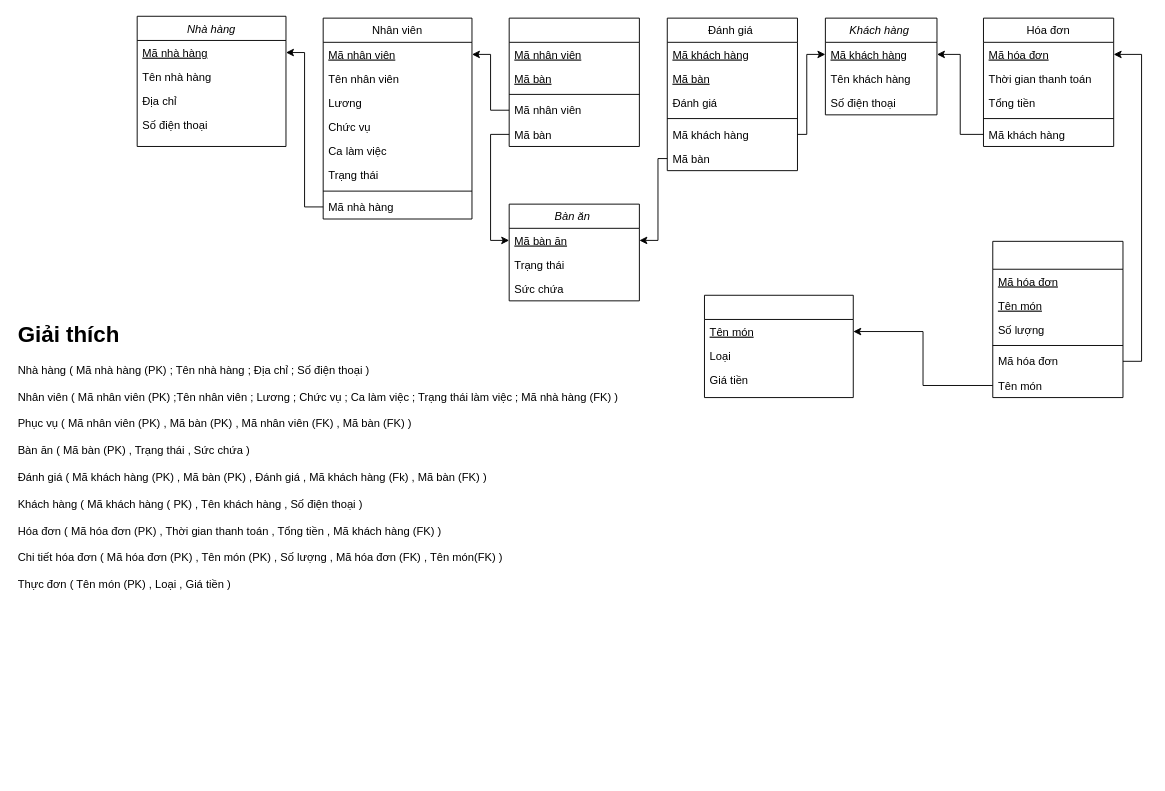
Some shapes in this 1165 by 791 pixel diagram are drawn without their labels. The box of each missing label's shape, as (x1, y1, x2, y2) in pixels:
Chi tiết hóa đơn: (992, 240, 1123, 398)
Phục vụ: (508, 17, 639, 146)
Thực đơn: (704, 294, 853, 398)
